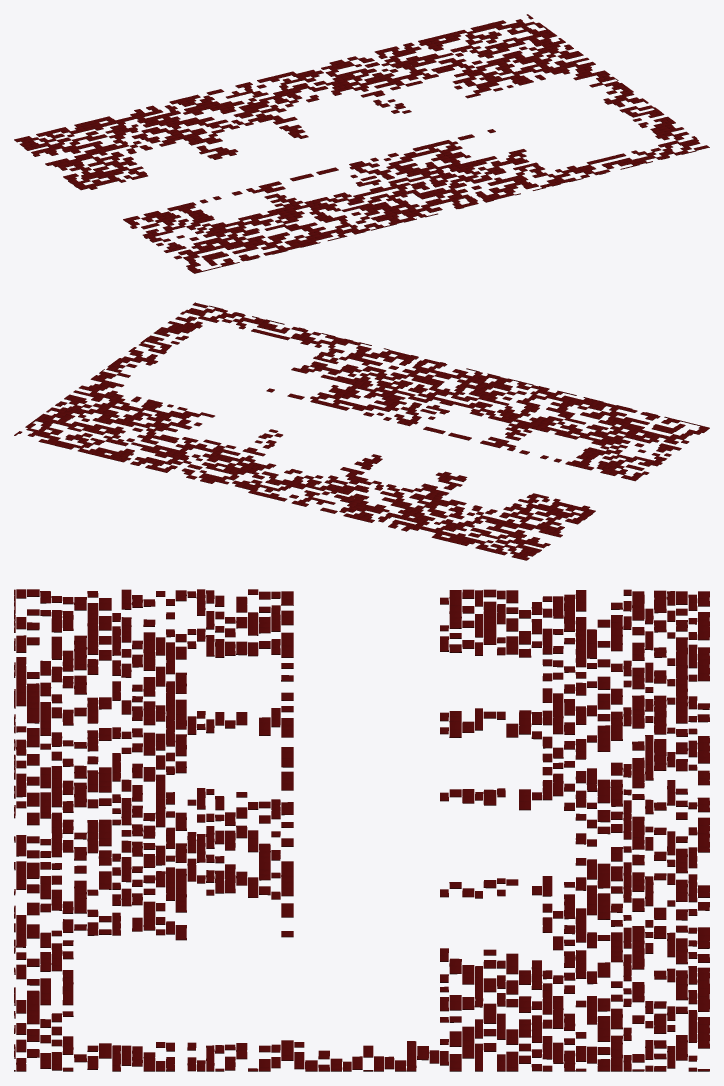
File: quellan_yards.glb
3 renders of one model, top to bottom at view 1: azimuth 30°, elevation 25°; view 2: azimuth 150°, elevation 25°; view 3: azimuth 270°, elevation 25°, orthographic. The views are drawn at different scales.
Visible parts, largest first — view 1: quellan_yards; view 2: quellan_yards; view 3: quellan_yards.
Boxes of the visible parts, box(x1,y1,x2,y2) form: quellan_yards: box(14, 14, 709, 273); quellan_yards: box(14, 302, 709, 560); quellan_yards: box(14, 589, 709, 1071).
Size of what is drawn, in the model's own units: 71.93 by 0.095 by 43.97.
